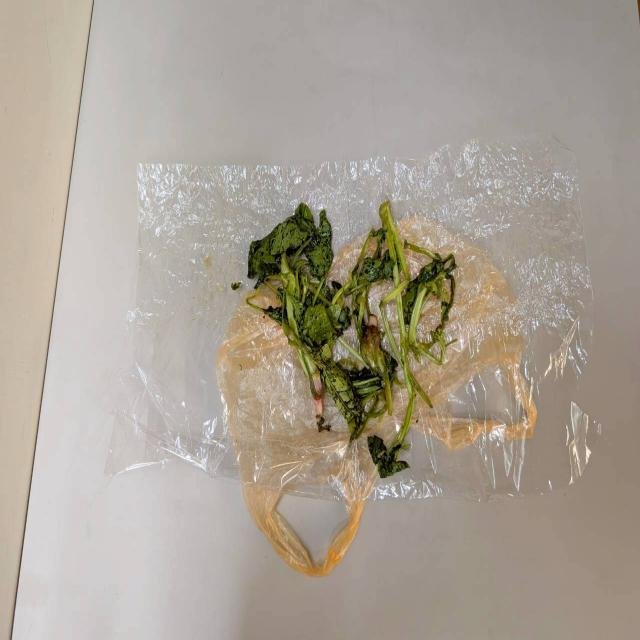rotten spinach: (221, 178, 469, 486), (364, 186, 485, 474), (225, 192, 358, 430)
